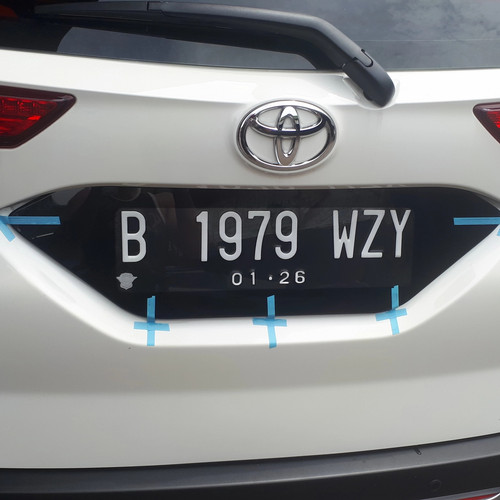plate: (114, 204, 413, 290)
